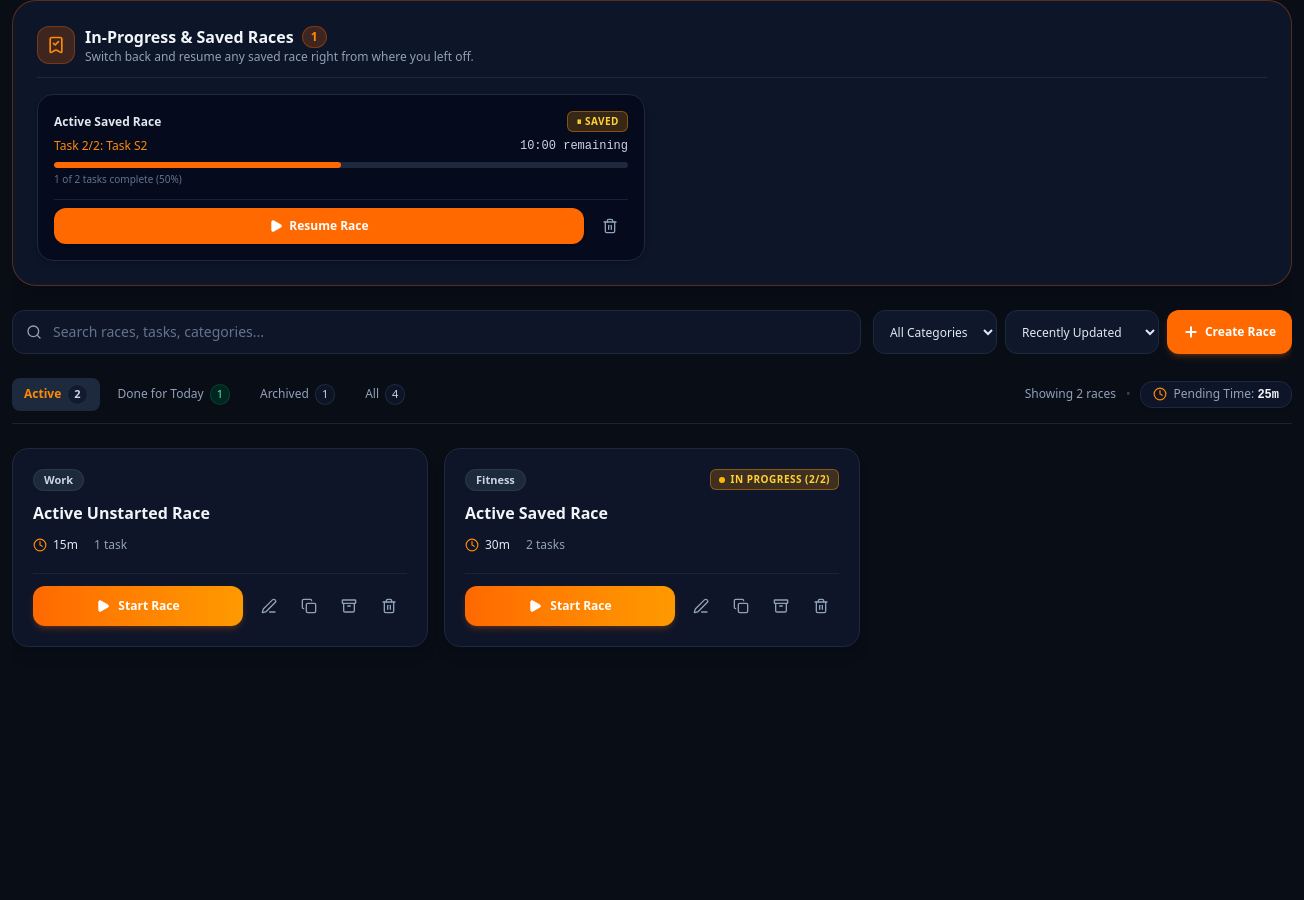
Test: RaceDashboard - In-Progress & Saved Races Total Time Remaining › Accumulated Race Time by Tab › shows accumulated total time for All tab (all race durations)
The width and height of the screenshot is (1304, 900).
// Switch to All tab
Click the button "All 4".
click(385, 394)  # box [353, 378, 417, 411]
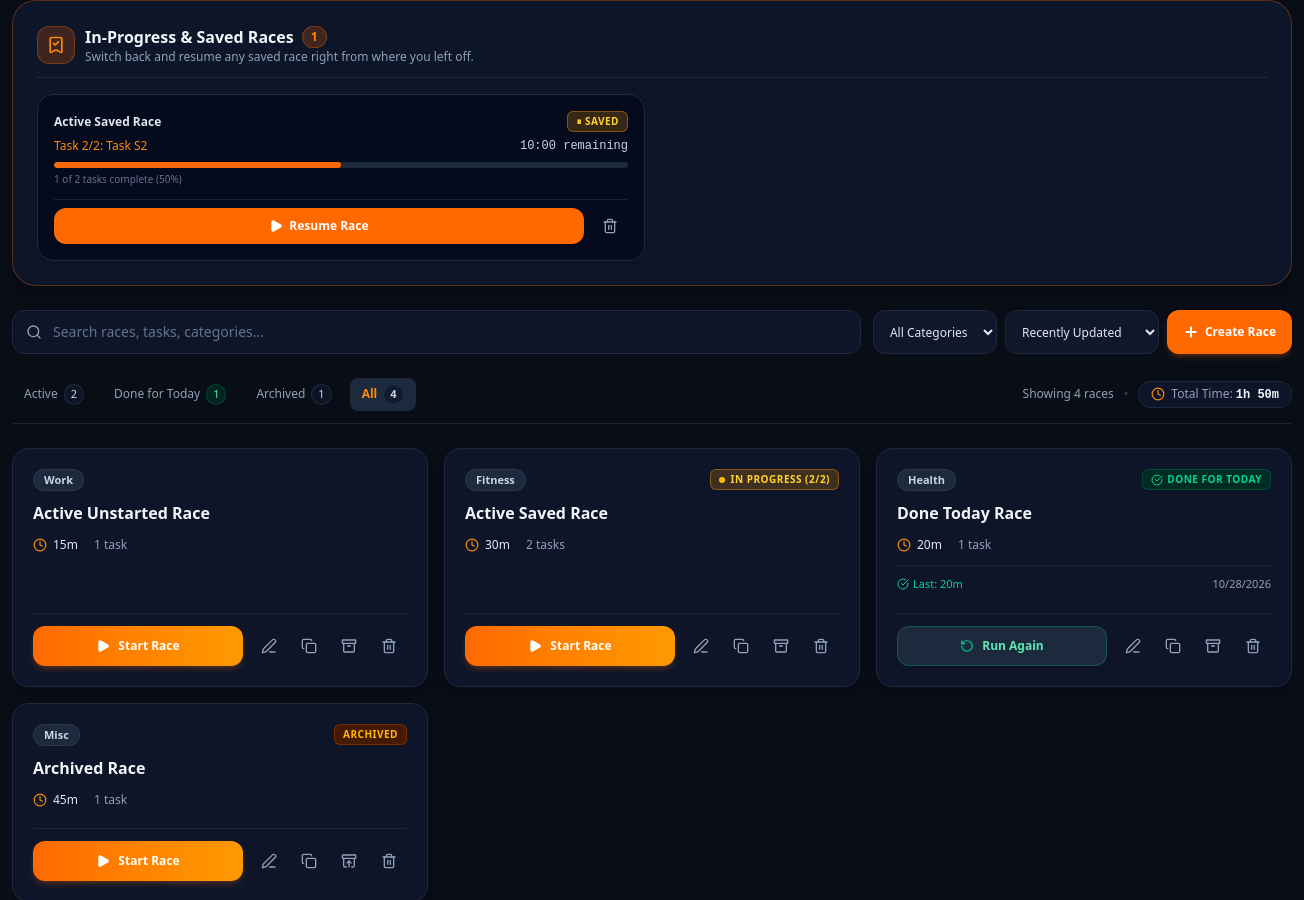
Check: the element labelled "Total Time: 1h 50m" is shown, box [1138, 381, 1292, 408]
Check: the text "Showing 4 races" is shown, box [1023, 386, 1114, 402]
